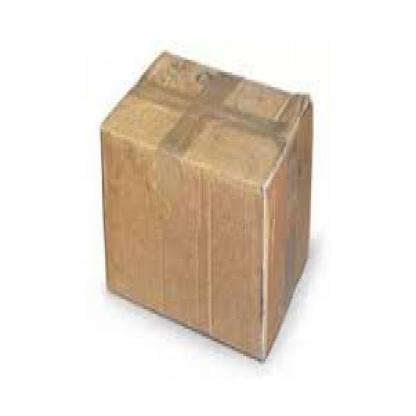box: (100, 50, 313, 362)
